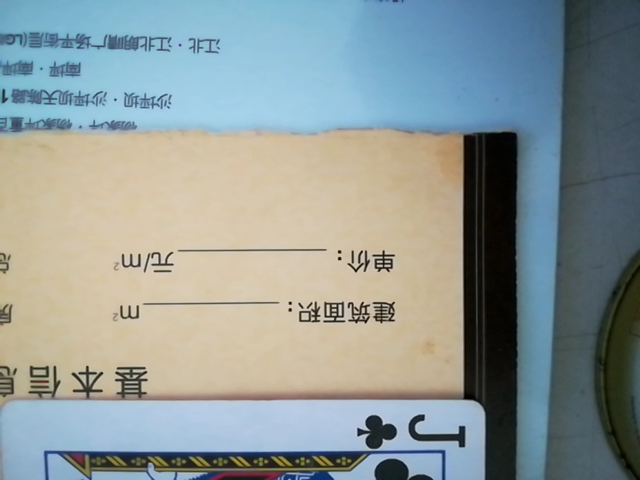mh j: (0, 396, 502, 478)
